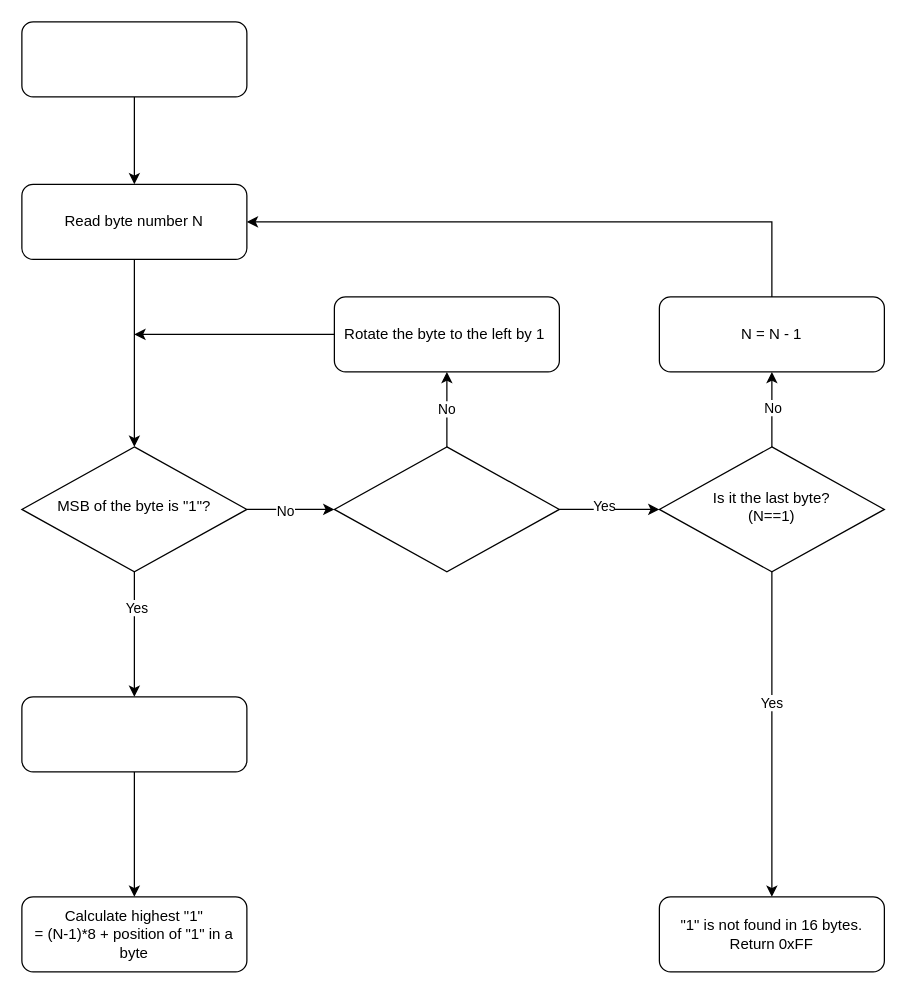
This 906x994 diagram has some shape labels left out. Here are the shapes that lost their labels. From the top down, the box of each, then its label:
(21, 21, 247, 97): Set N=16 (byte number)
(333, 446, 559, 572): Did we reach end of the byte?
(21, 696, 247, 772): Get position of "1" within the byte starting from zero
